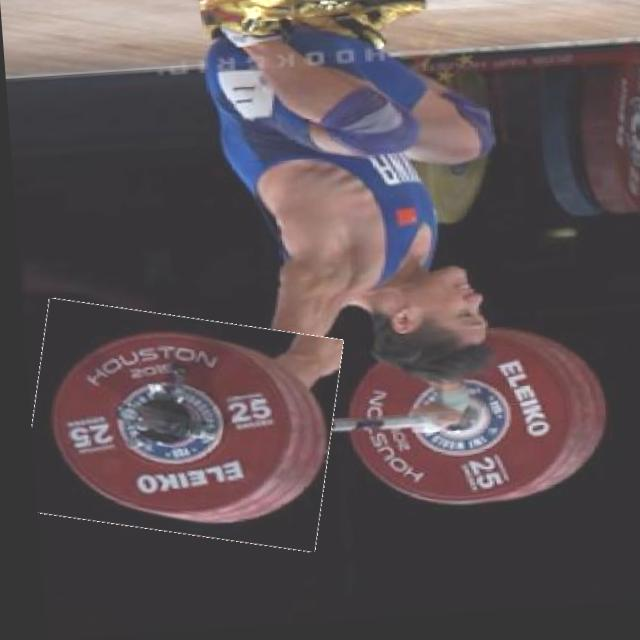barbell: (19, 299, 341, 557)
